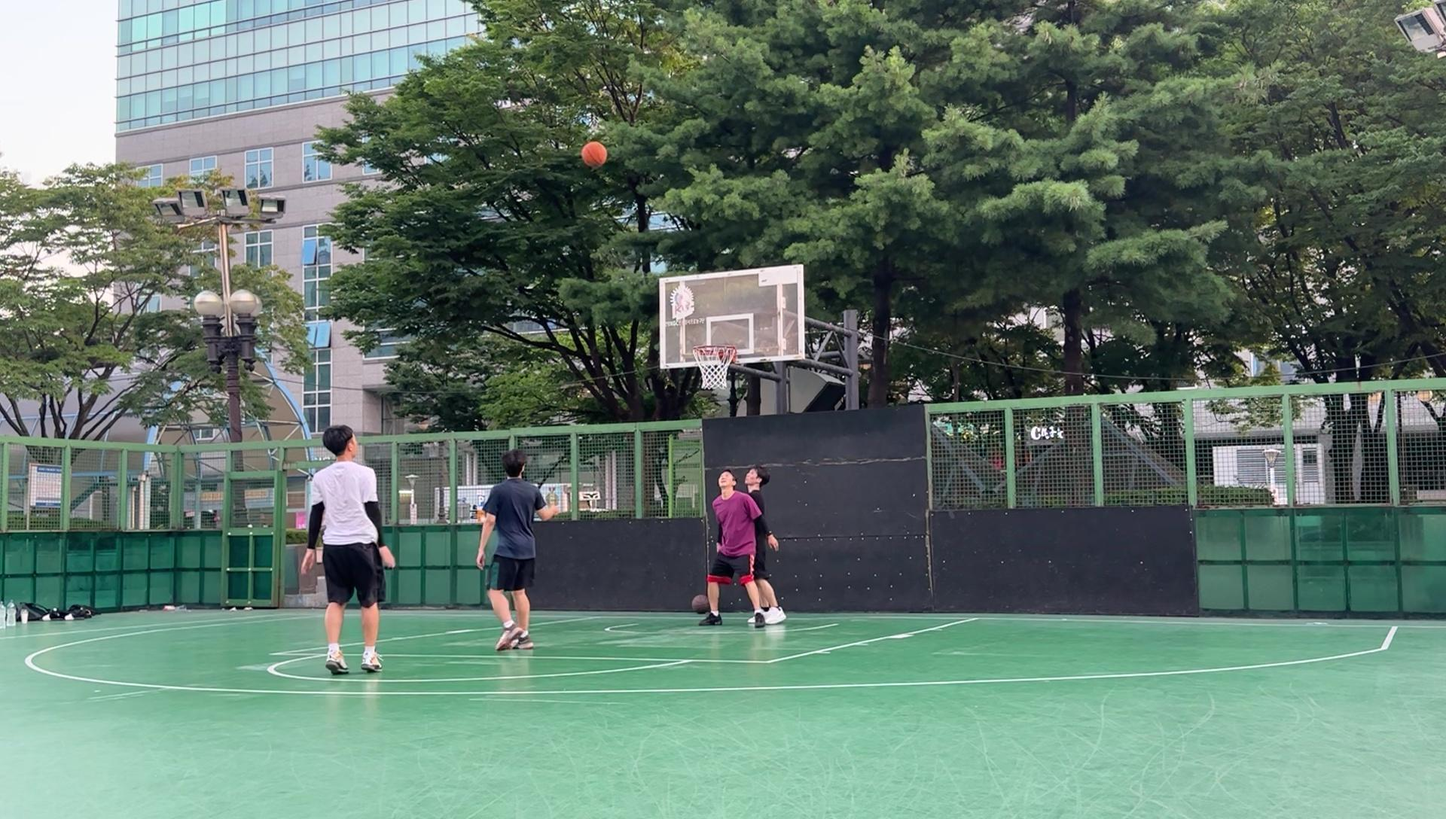ball: (581, 142, 606, 167), (691, 593, 711, 615)
human: (301, 425, 395, 675), (476, 449, 560, 650), (700, 470, 779, 629), (740, 464, 787, 624)
rim: (692, 343, 739, 391)
